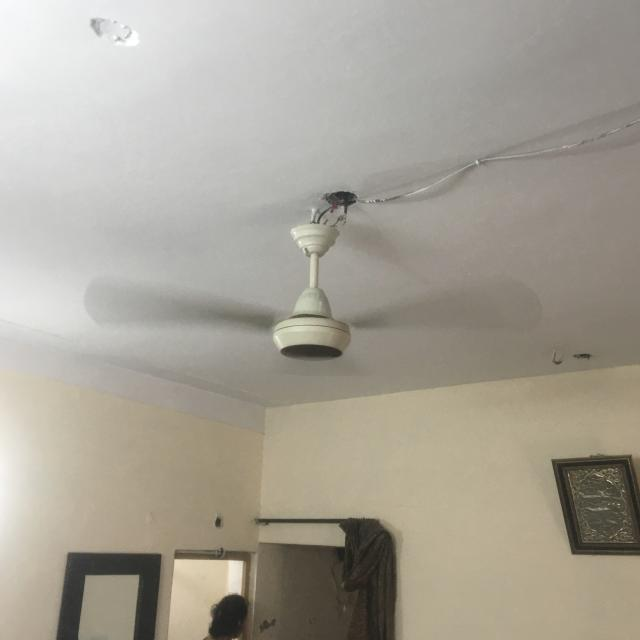on: (79, 260, 550, 394)
